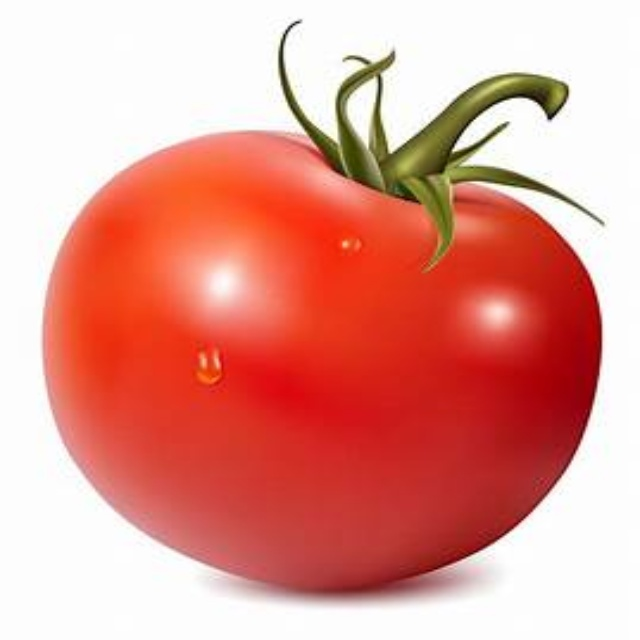tomato: (46, 86, 598, 589)
